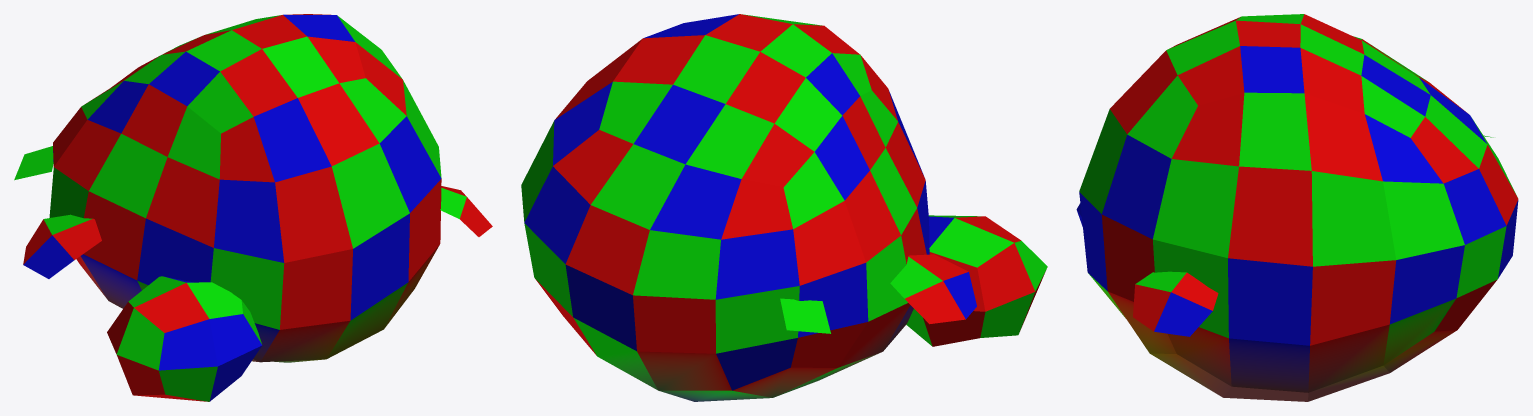
File: Bush_C_03.fbx
3 views of the same model, side by side, from view 1: azimuth 30°, elevation 25°; view 2: azimuth 150°, elevation 25°; view 3: azimuth 270°, elevation 25° (orthographic). The views are drawn at different scales.
Parts seen in each view (by area): view 1: Bush_C_03; view 2: Bush_C_03; view 3: Bush_C_03.
Boxes of the visible parts, <box> form: Bush_C_03: <box>14,14,492,401</box>; Bush_C_03: <box>521,14,1047,401</box>; Bush_C_03: <box>1076,14,1518,401</box>.
Size of the model in its own units: 2.73 by 2.07 by 2.46.
